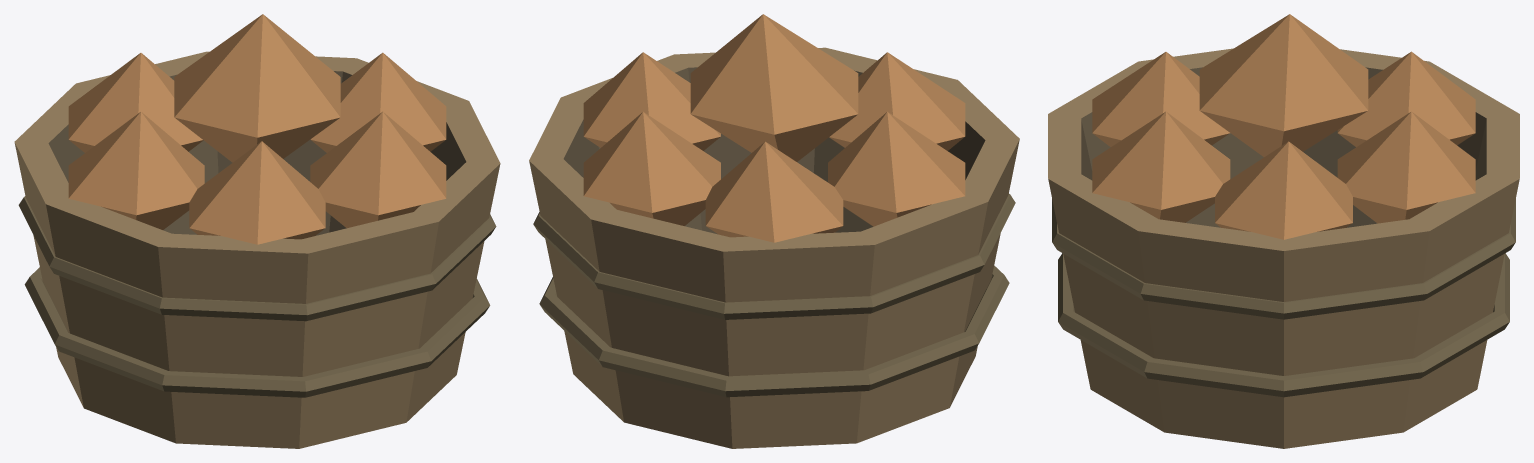
The model's file is qc_apple_basket.obj.
The picture shows the model from 3 angles, left to right: view 1: azimuth 30°, elevation 25°; view 2: azimuth 150°, elevation 25°; view 3: azimuth 270°, elevation 25°; orthographic projection.
Parts seen in each view (by area): view 1: qc_apple_basket; view 2: qc_apple_basket; view 3: qc_apple_basket.
Part boxes in pixels (box(x1,y1,x2,y2)): qc_apple_basket: box(14, 14, 500, 448); qc_apple_basket: box(529, 14, 1019, 448); qc_apple_basket: box(1048, 14, 1519, 448).
Bounding box in the file's own units: 0.56 × 0.44 × 0.5326.
